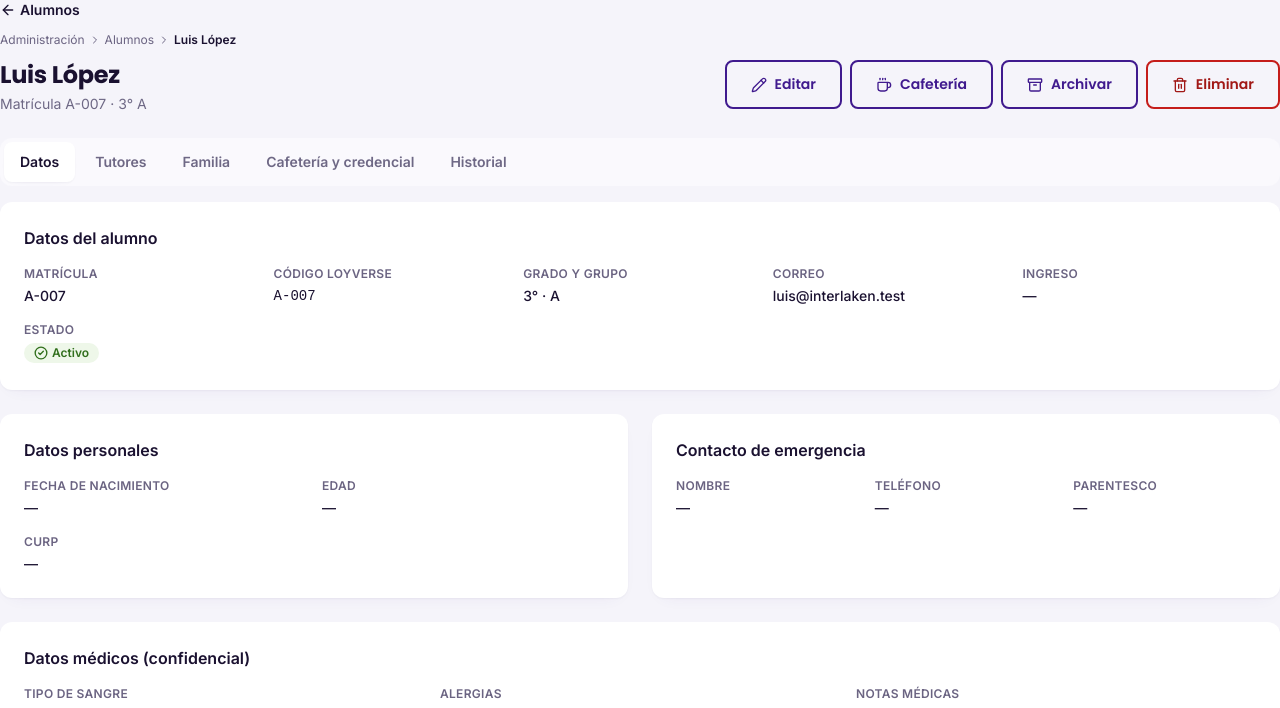
Test: AdminStudentDetail: archiving, removing and history › Historial lists who changed what
Step 1. Click the tab "Historial" → (478, 162), box [434,142,522,182]
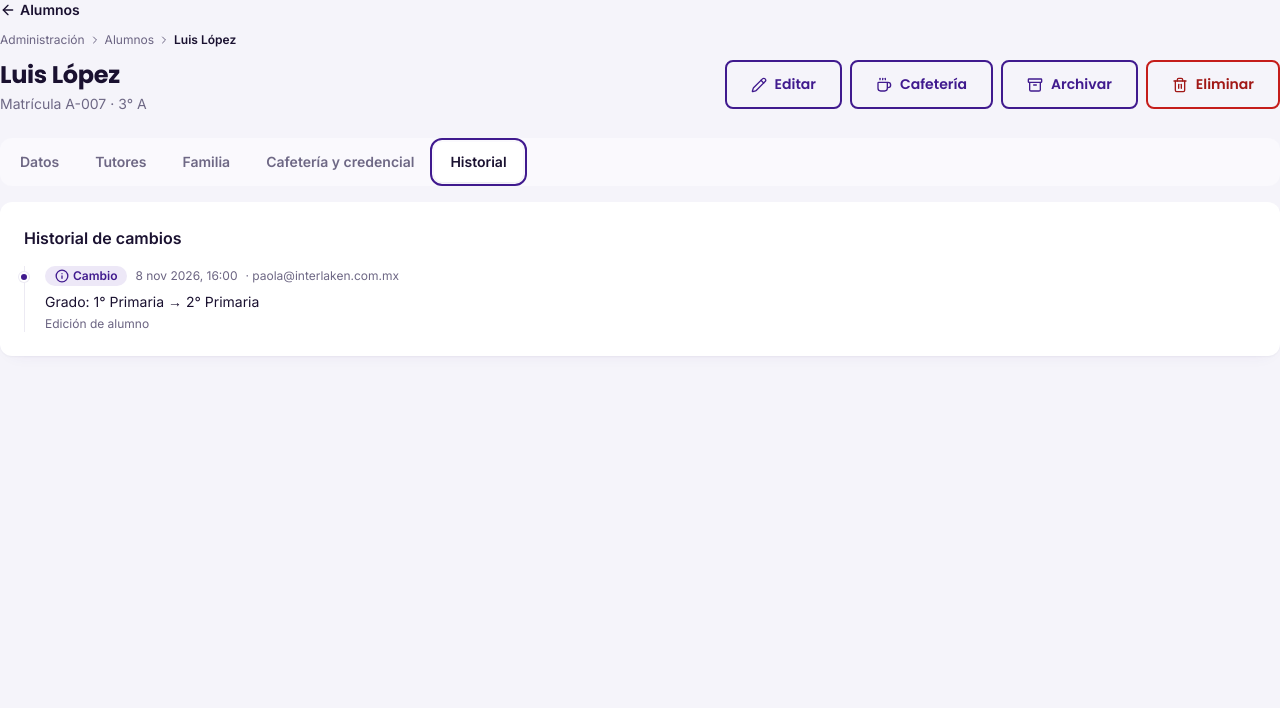
expect the list item "Grado: 1° Primaria → 2° Primaria" is shown: met, box [45,293,259,310]
expect the text "· paola@interlaken.com.mx" is shown: met, box [246,268,399,284]
